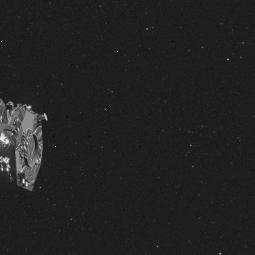lisa_pathfinder: (0, 89, 57, 202)
